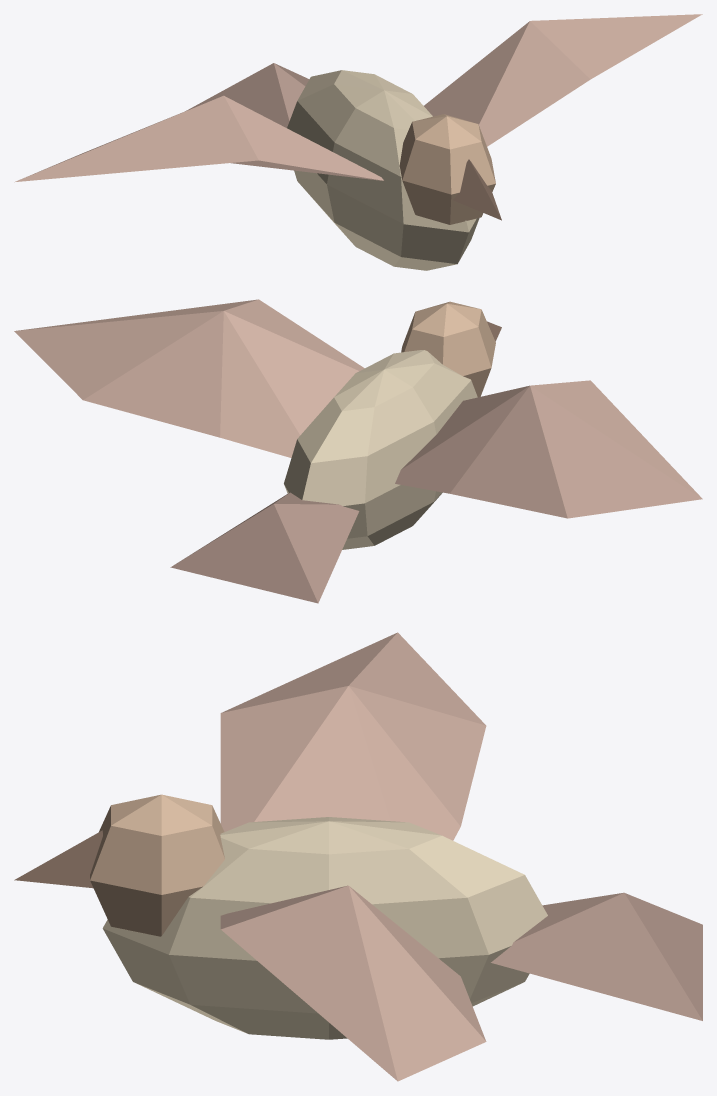
File: Bird.glb
The picture shows the model from 3 angles, top to bottom: view 1: azimuth 30°, elevation 25°; view 2: azimuth 150°, elevation 25°; view 3: azimuth 270°, elevation 25°; orthographic projection. The views are drawn at different scales.
Visible parts, largest first — view 1: shared__Bird__body, shared__Bird__right_wing, shared__Bird__left_wing; view 2: shared__Bird__body, shared__Bird__right_wing, shared__Bird__left_wing; view 3: shared__Bird__body, shared__Bird__left_wing, shared__Bird__right_wing.
Part boxes in pixels (x1,y1,x2,y2): shared__Bird__body: (186, 63, 501, 270); shared__Bird__right_wing: (424, 14, 702, 146); shared__Bird__left_wing: (14, 95, 383, 182); shared__Bird__body: (170, 301, 501, 603); shared__Bird__right_wing: (14, 299, 364, 457); shared__Bird__left_wing: (395, 380, 702, 518); shared__Bird__body: (14, 794, 702, 1039); shared__Bird__left_wing: (220, 632, 486, 840); shared__Bird__right_wing: (220, 885, 486, 1081).
Bounding box in the file's own units: 0.54 × 0.14 × 0.35.
